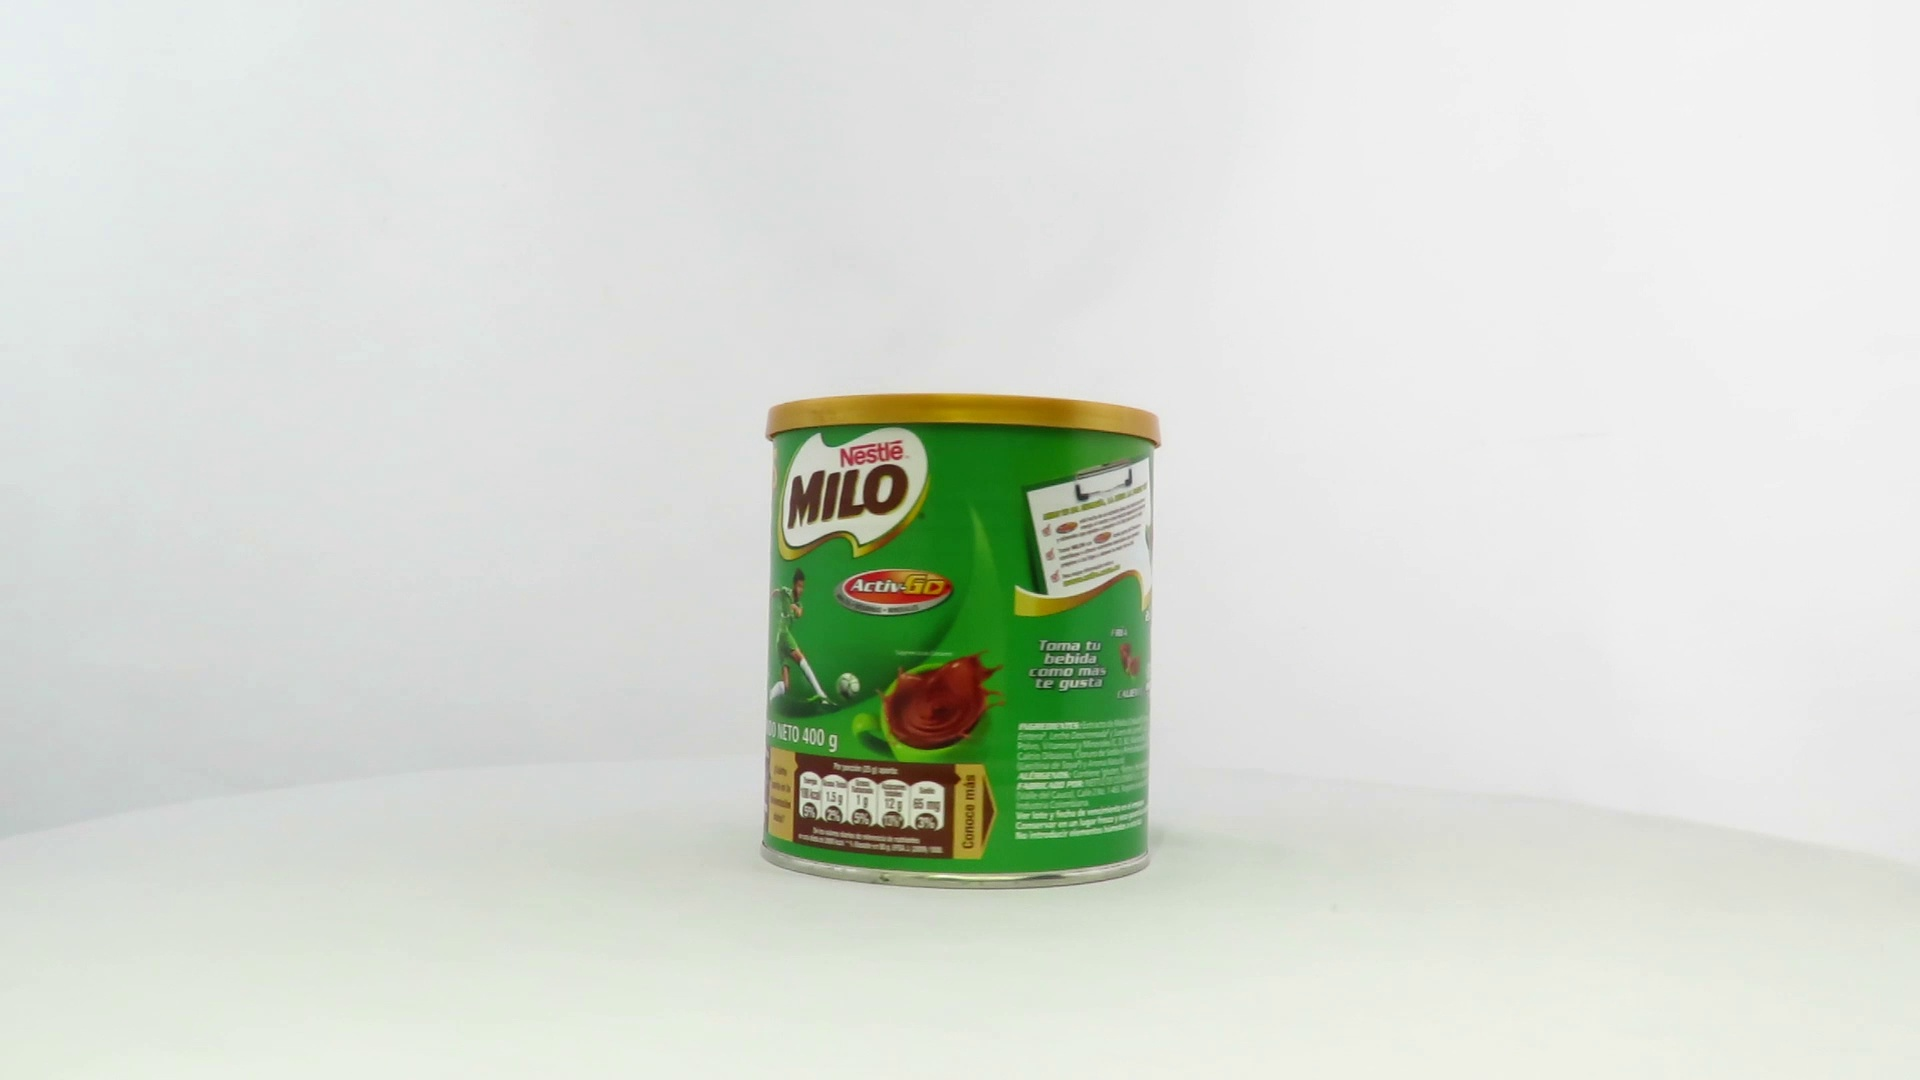COL0170203LAT40000: (754, 388, 1167, 895)
